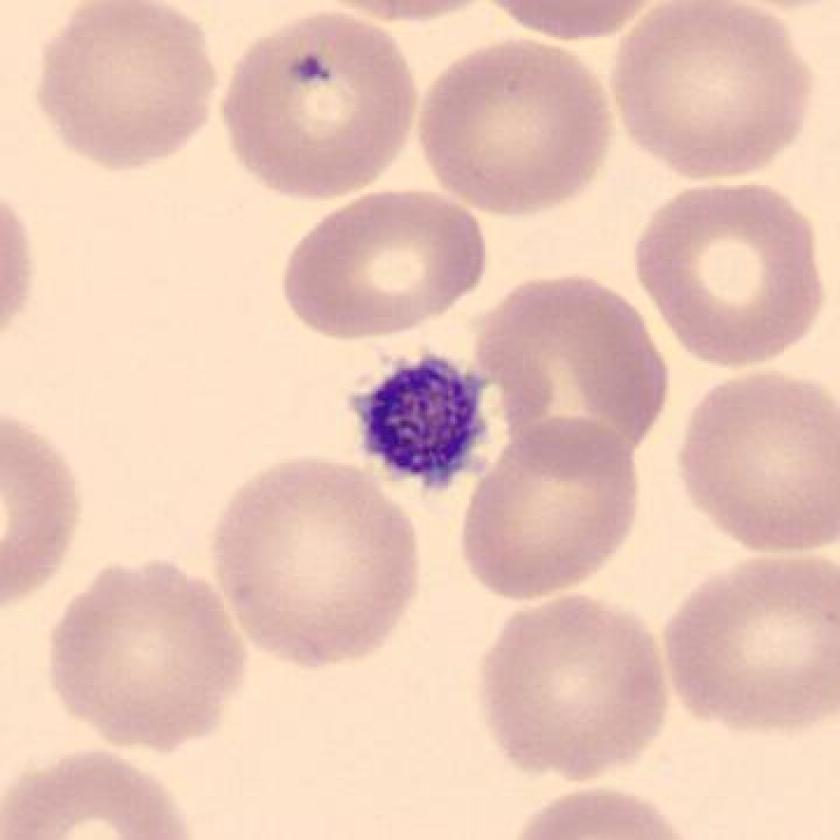platelets: (344, 341, 505, 506)
